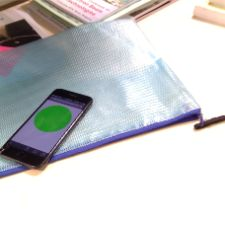focus: (34, 102, 75, 137)
